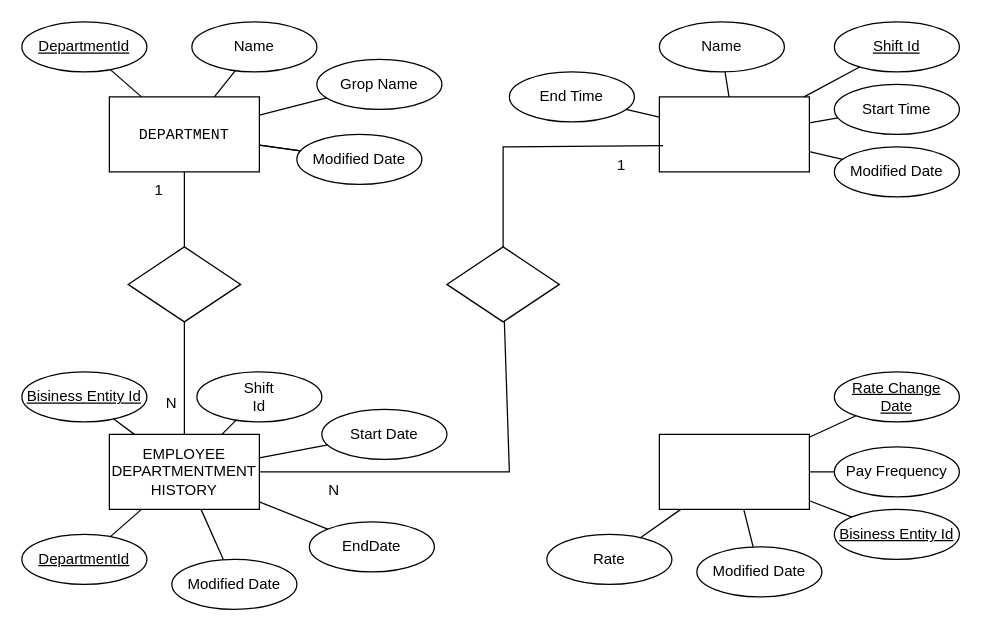
Image size: 981x631. Some labels were removed from this diagram. Here are the shapes that lost their labels. From the top down, the centre of each, then its label:
(x=733, y=134): SHIFT
(x=184, y=284): pertenecer
(x=502, y=284): ocupar
(x=733, y=471): EMPLOYEE PAY HISTORY
